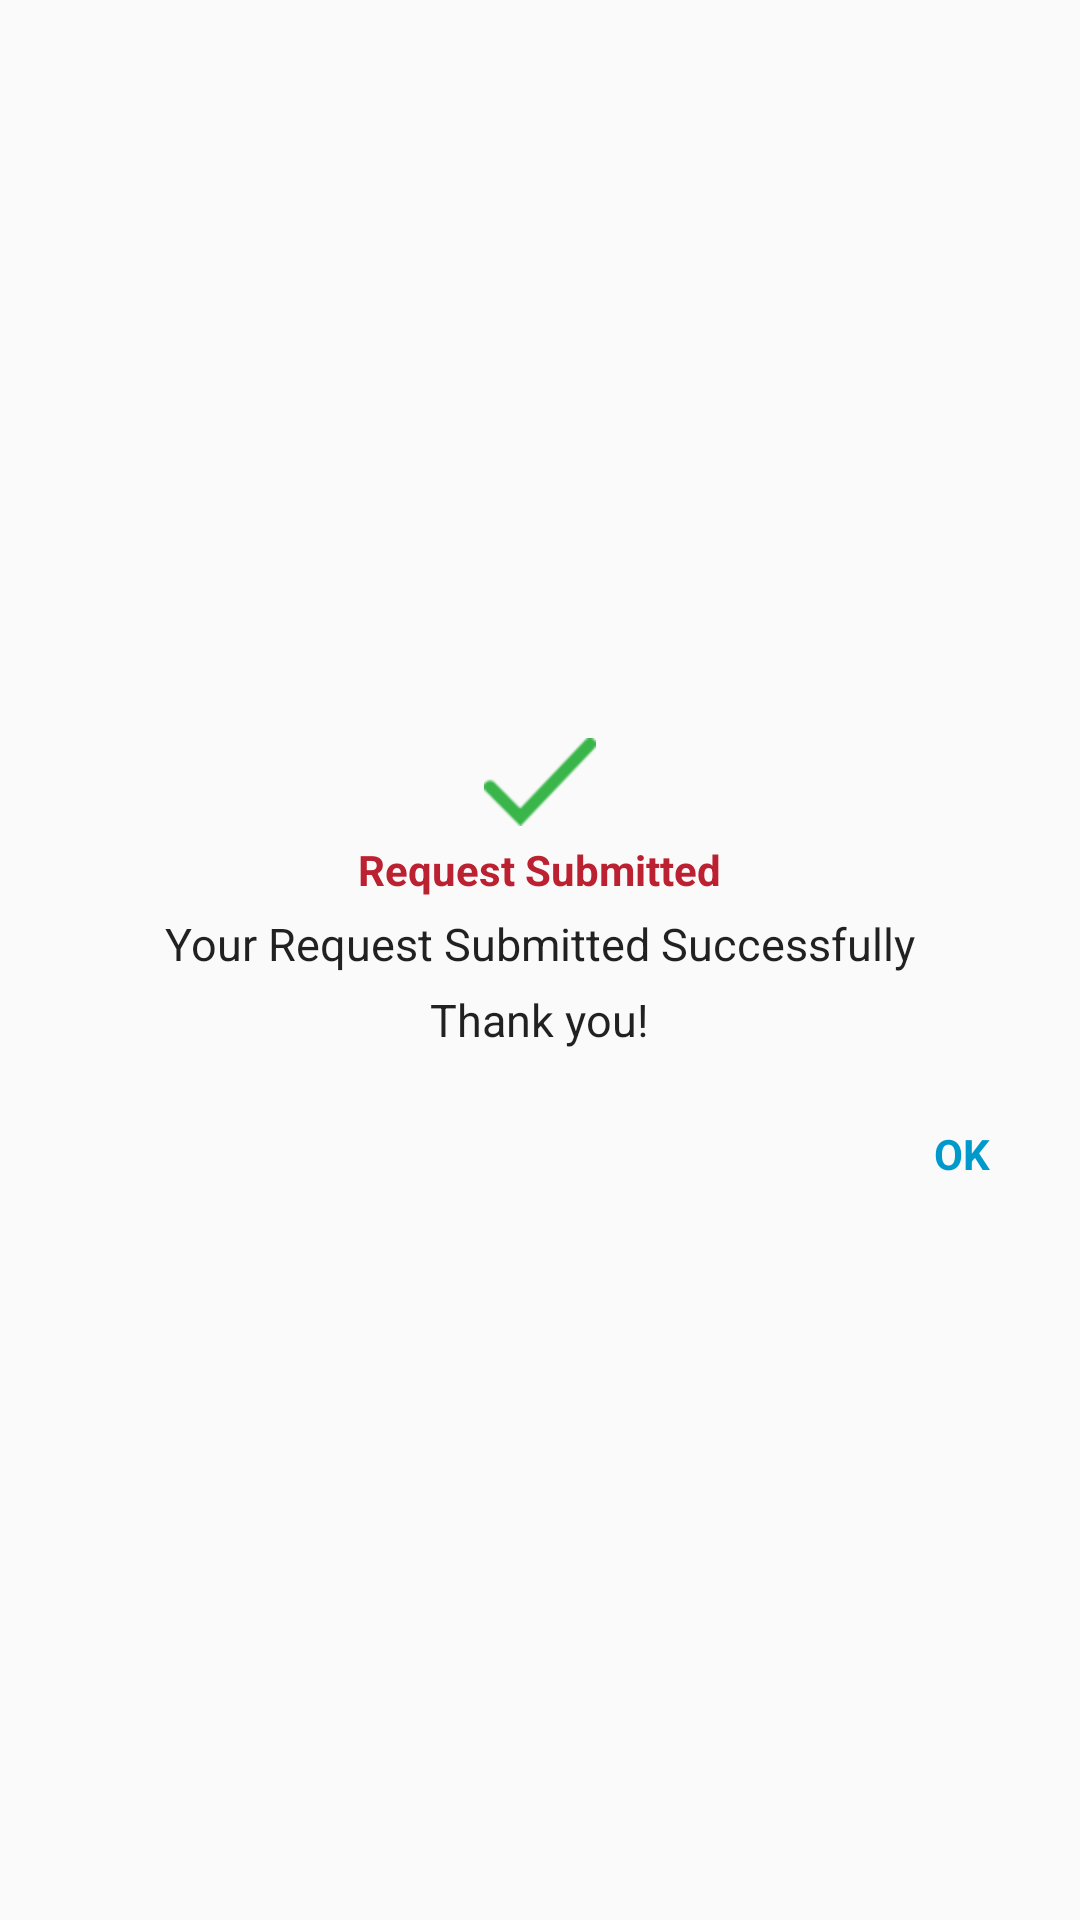

Screen size 1080*1920. Icon name, then its box in pixels as (x1, y1, x2, y2):
tick: (484, 738, 596, 826)
